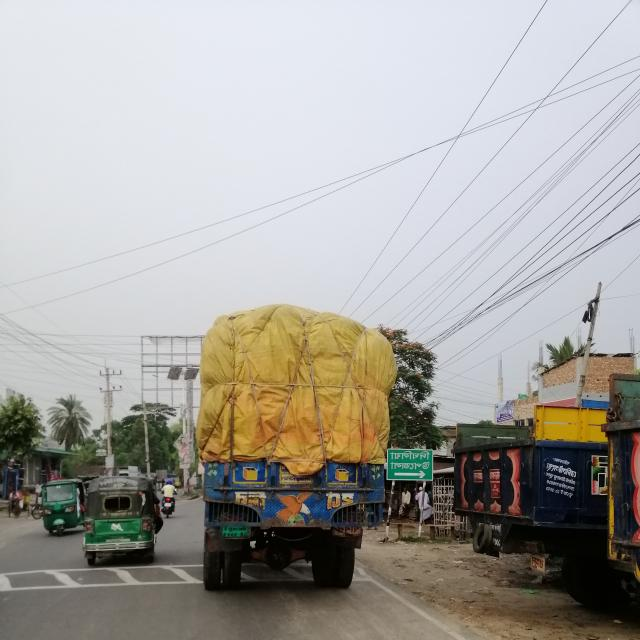CNG: (84, 475, 160, 566)
Truck: (199, 303, 397, 597)
